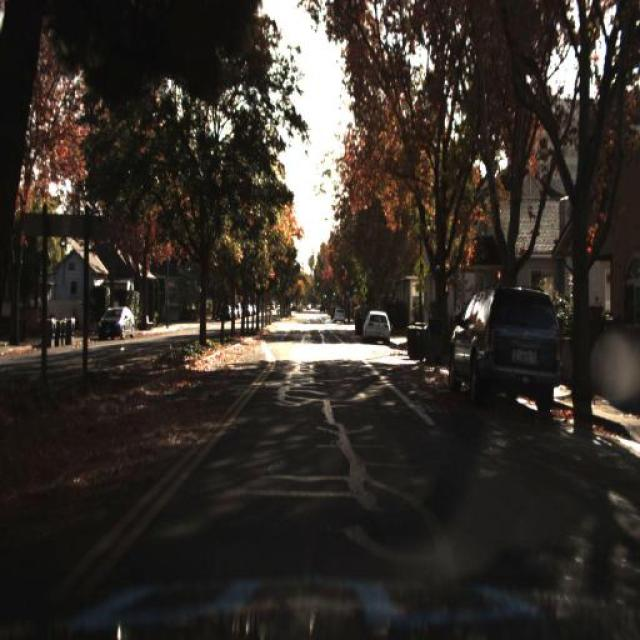car: (444, 275, 570, 420), (94, 300, 138, 349), (96, 304, 136, 338), (361, 309, 395, 342), (362, 310, 392, 346), (332, 302, 348, 328)
